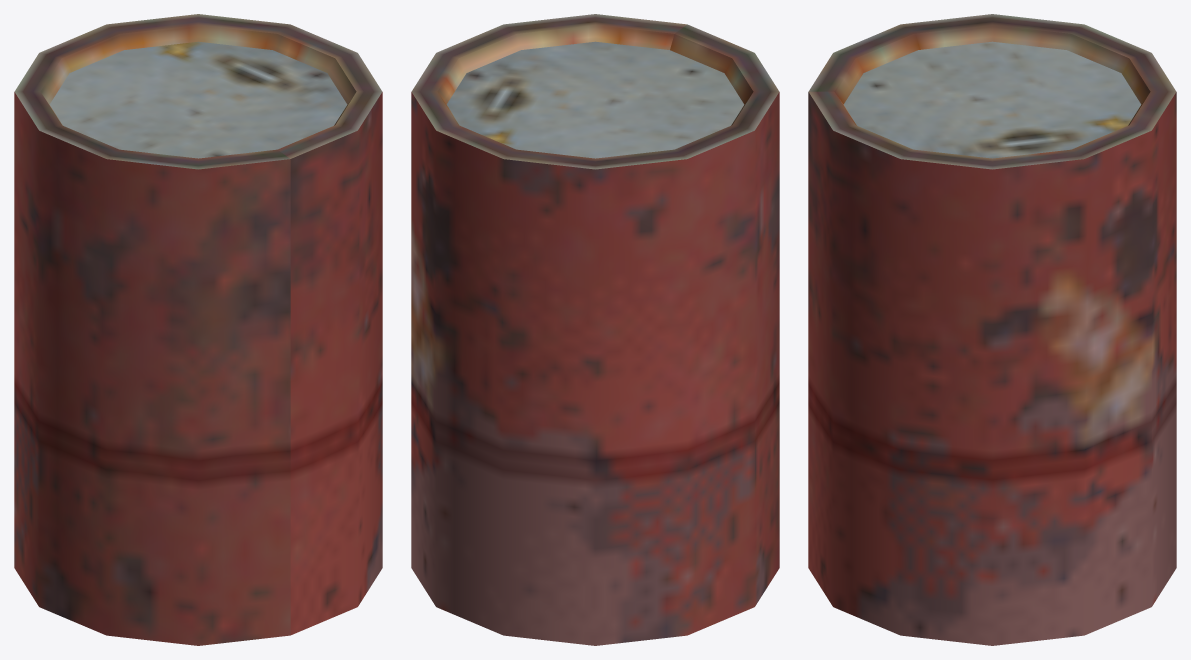
The model's file is SM_SMALLBARREL_03.fbx.
The picture shows the model from 3 angles, left to right: view 1: azimuth 30°, elevation 25°; view 2: azimuth 150°, elevation 25°; view 3: azimuth 270°, elevation 25°; orthographic projection.
Visible parts, largest first — view 1: SM_SMALLBARREL_03; view 2: SM_SMALLBARREL_03; view 3: SM_SMALLBARREL_03.
Part boxes in pixels (x1,y1,x2,y2): SM_SMALLBARREL_03: (14,14,382,645); SM_SMALLBARREL_03: (411,14,779,645); SM_SMALLBARREL_03: (808,14,1176,645).
Bounding box in the file's own units: 0.7 × 1 × 0.7.
